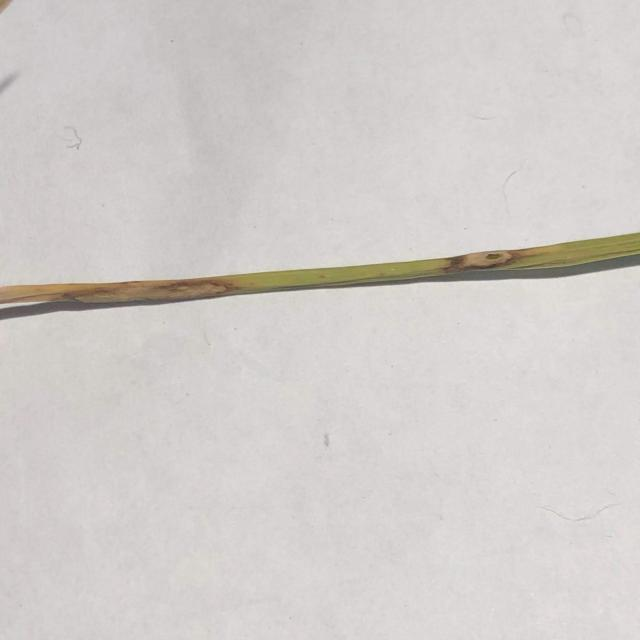Blast: (459, 254, 514, 270), (159, 284, 228, 294), (80, 292, 144, 302)
